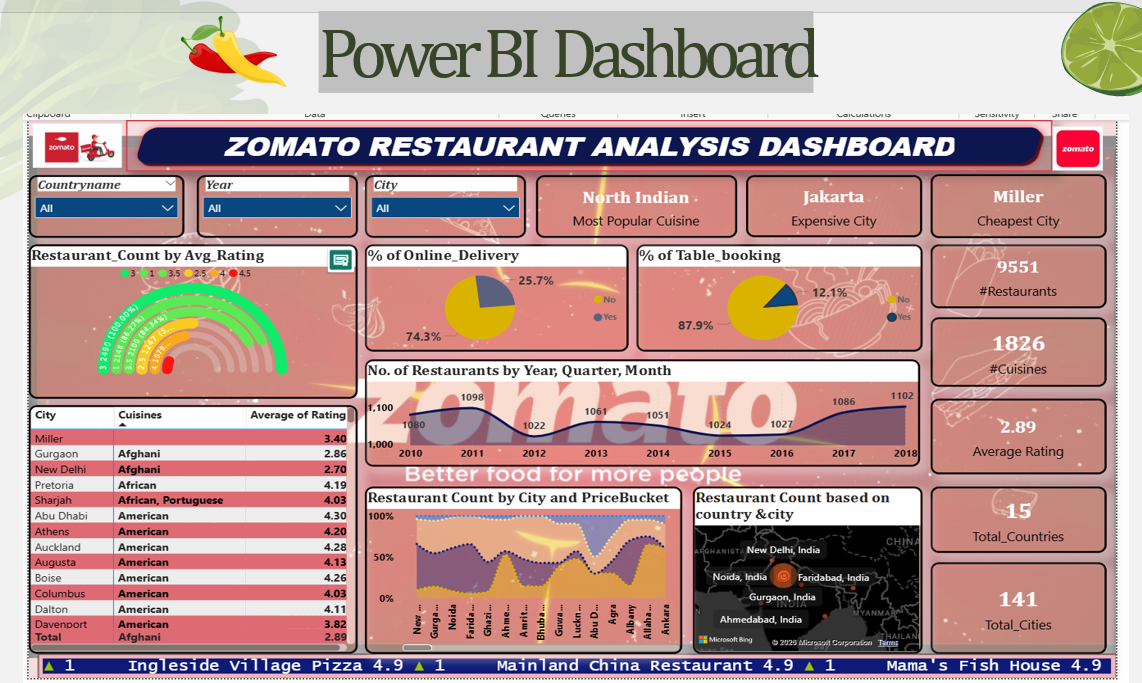

This screenshot's page, from the dashboard's own definition file:
{"tool":"tableau","page":{"name":"Dashboard 1","canvas":[1000,1000],"units":"permille","ordinal":0},"visuals":[{"type":"dashboard-object","box":[877.2,9.4,116,63]},{"type":"title","box":[4.8,9.9,893.8,62.9]},{"type":"text","box":[898.6,9.9,96.6,22.2]},{"type":"image","param":"Image/Zomato image.png","box":[10.6,12.1,149.6,59]},{"type":"worksheet","title":"CUSINES","mark":"Automatic","rows":["Cuisines"],"cols":["RestaurantID"],"box":[791.8,89.9,206.4,496.9]},{"type":"worksheet","title":"KPI 1","mark":"Automatic","box":[9.1,90,166.6,138.1]},{"type":"worksheet","title":"KPI 2 ","mark":"Automatic","box":[178,90,166.6,138.1]},{"type":"worksheet","title":"KPI 3","mark":"Automatic","box":[347,90,177.4,138.1]},{"type":"filter","title":"1","param":"[federated.1c66vmg1hbwwpp16xe0wp0gmyl41].[none:country name:nk]","box":[531.1,91.2,125.5,134.4]},{"type":"filter","title":"1","param":"[federated.1c66vmg1hbwwpp16xe0wp0gmyl41].[yr:Datekey_Opening:ok]","box":[661.4,91.2,127.9,131.9]},{"type":"worksheet","title":"RATING","mark":"Automatic","rows":["Rating (bin)"],"cols":["RestaurantID"],"box":[557.6,233.1,232.3,360.1]},{"type":"worksheet","title":"AVG","mark":"Bar","rows":["RestaurantID"],"cols":["country name"],"box":[288.9,233.7,264,356.9]},{"type":"worksheet","title":"RM","mark":"Automatic","rows":["RestaurantID"],"cols":["opening date"],"box":[4.2,236,279.4,357.1]},{"type":"worksheet","title":"1","mark":"Automatic","box":[2.7,599.6,376,394.9]},{"type":"worksheet","title":"ONLINE","mark":"Pie","box":[389.3,599.6,309.3,389.5]},{"type":"worksheet","title":"TABLE","mark":"Pie","box":[704.9,599.6,295.1,391.3]}]}

Visuals, with their boxes on the dashboard's canvas, which has no fixed pixel size, in thousandths of its width and height (x1, y1, x2, y2). These are canvas units, not pixel positions in the 1142x683 screenshot, which may show the page scaled, cropped or inside an application window:
dashboard-object: (877,9,993,72)
title: (5,10,899,73)
text: (899,10,995,32)
image: (11,12,160,71)
"CUSINES" worksheet: (792,90,998,587)
"KPI 1" worksheet: (9,90,176,228)
"KPI 2 " worksheet: (178,90,345,228)
"KPI 3" worksheet: (347,90,524,228)
"1" filter: (531,91,657,226)
"1" filter: (661,91,789,223)
"RATING" worksheet: (558,233,790,593)
"AVG" worksheet (Bar marks): (289,234,553,591)
"RM" worksheet: (4,236,284,593)
"1" worksheet: (3,600,379,994)
"ONLINE" worksheet (Pie marks): (389,600,699,989)
"TABLE" worksheet (Pie marks): (705,600,1000,991)
